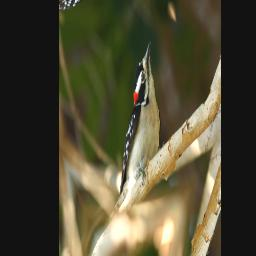Woodpecker: (82, 35, 182, 241)
